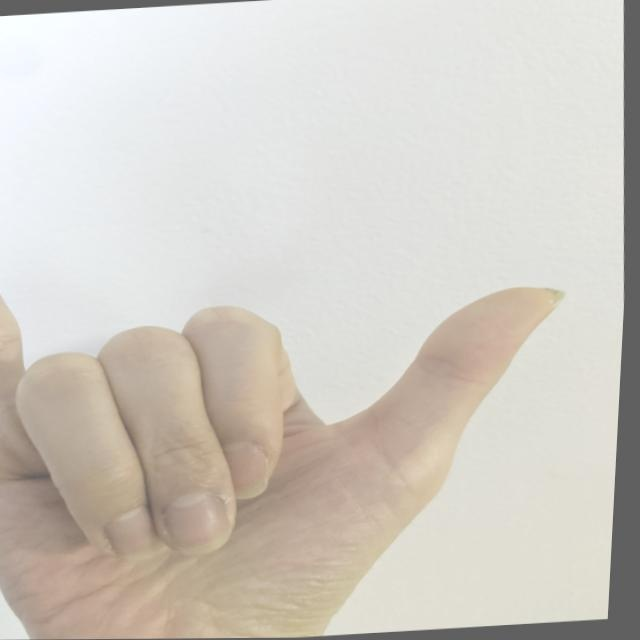Y: (0, 176, 604, 639)
